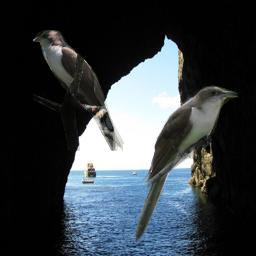Cuckoo: (130, 84, 238, 245), (33, 30, 125, 151)
